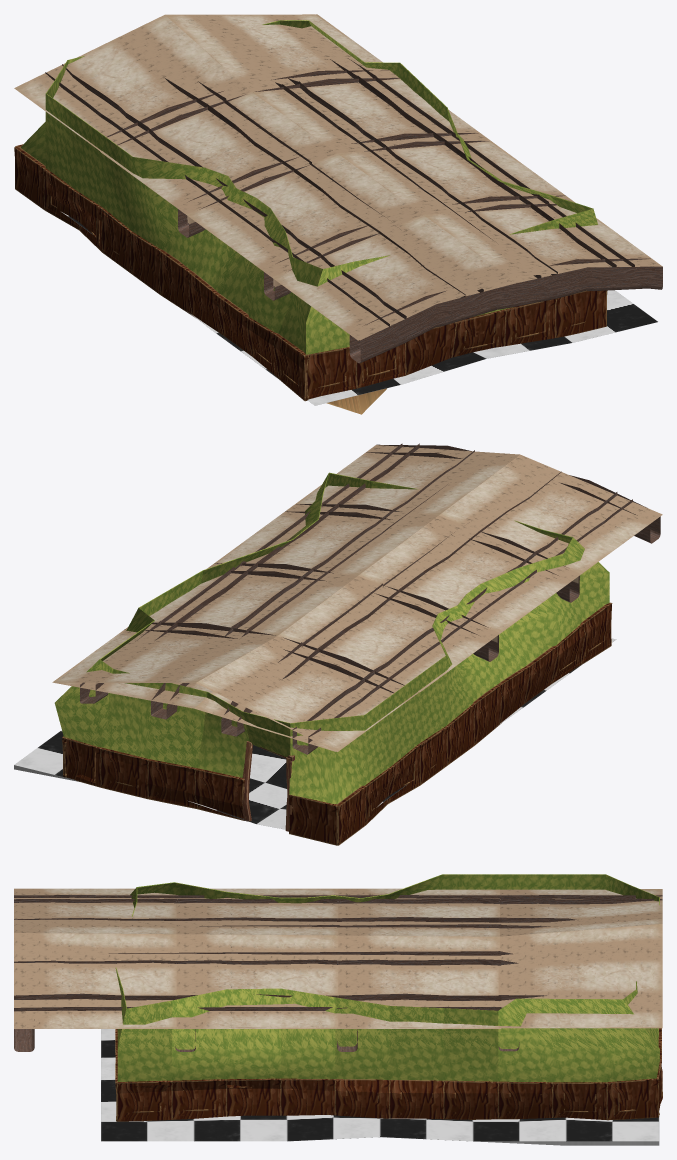
Rendered from Bedroom_all.fbx.
3 views of the same model, one above another, from view 1: azimuth 30°, elevation 25°; view 2: azimuth 150°, elevation 25°; view 3: azimuth 270°, elevation 25° (orthographic). The views are drawn at different scales.
Parts seen in each view (by area): view 1: bedroom_all; view 2: bedroom_all; view 3: bedroom_all.
Boxes of the visible parts, bbox=[...] form: bedroom_all: bbox=[14, 14, 662, 414]; bedroom_all: bbox=[14, 443, 662, 845]; bedroom_all: bbox=[14, 874, 662, 1145].
Size of the model in its own units: 1592 by 694 by 2736.
